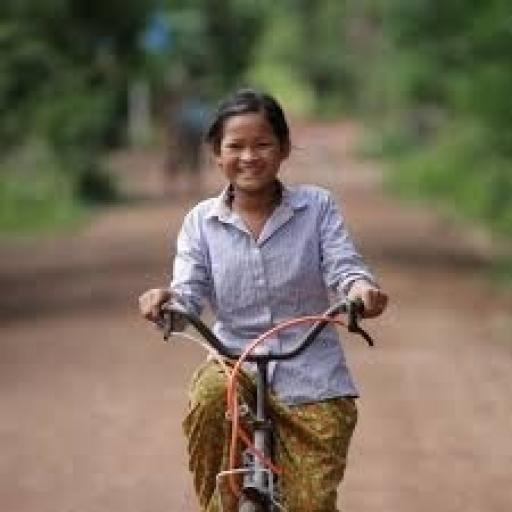cycling: (134, 86, 394, 510)
